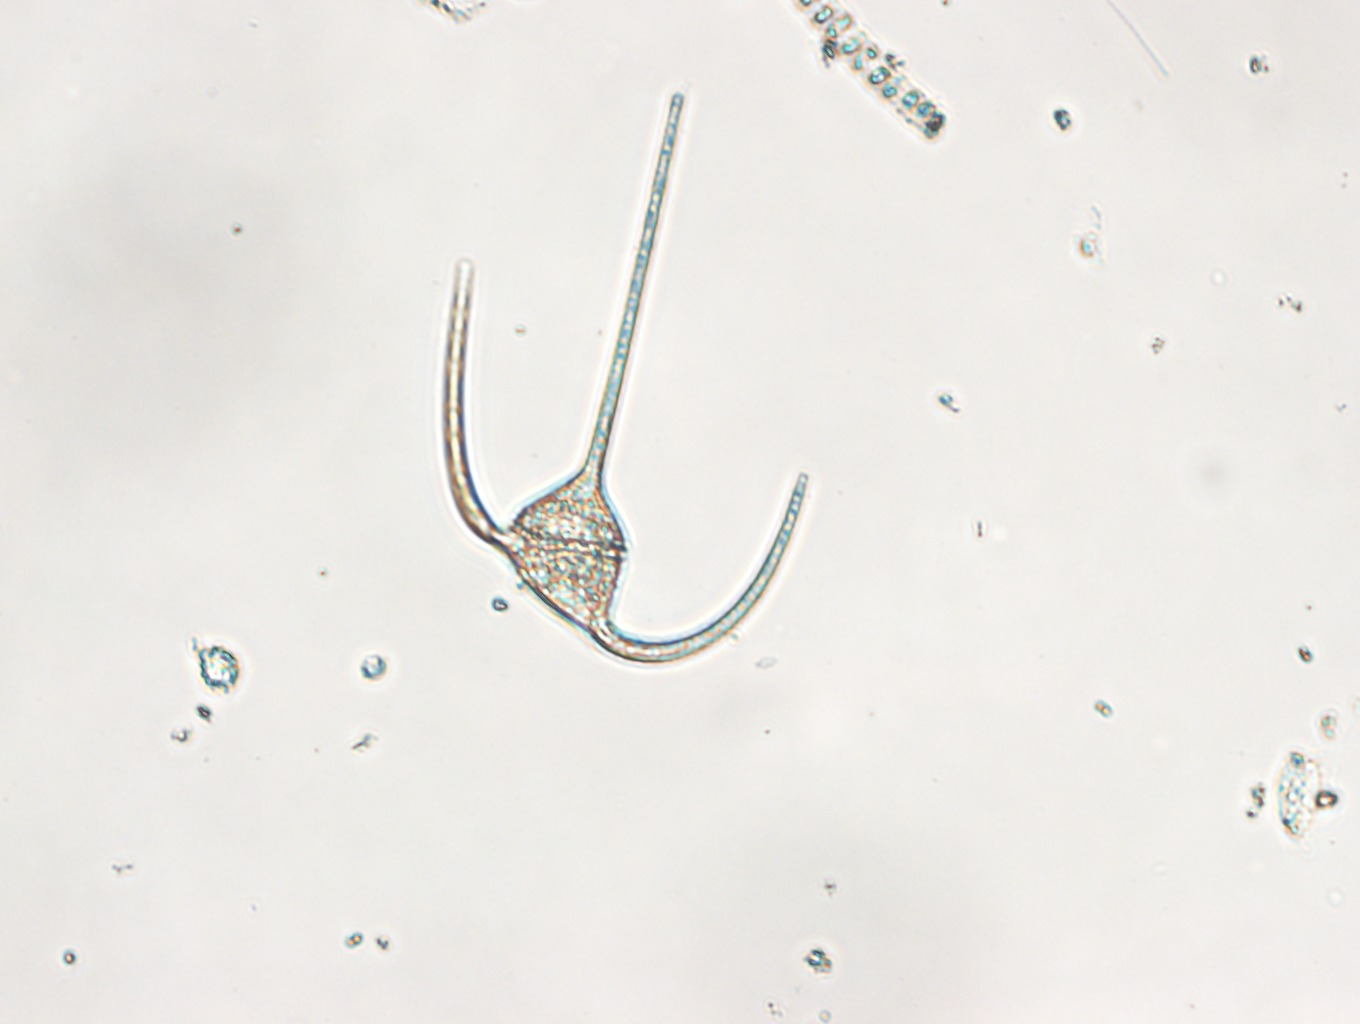ceratium trichoceros: (441, 91, 811, 664)
